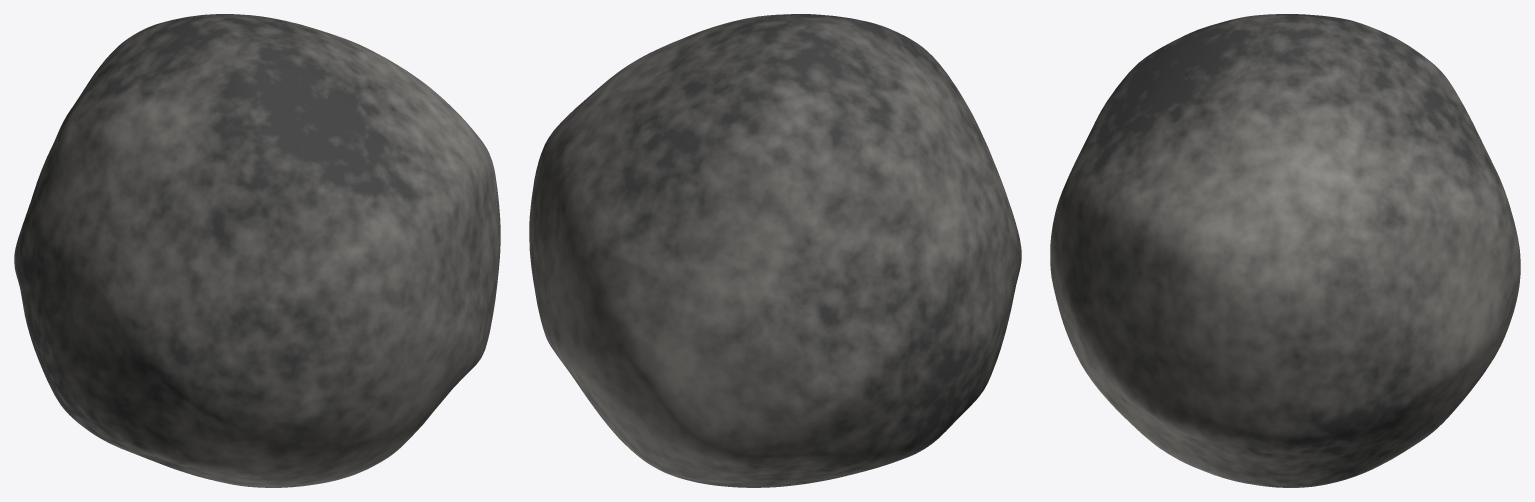
The model's file is granite-boulder-v001.glb.
3 renders of one model, left to right at view 1: azimuth 30°, elevation 25°; view 2: azimuth 150°, elevation 25°; view 3: azimuth 270°, elevation 25°, orthographic. The views are drawn at different scales.
Parts seen in each view (by area): view 1: granite-boulder; view 2: granite-boulder; view 3: granite-boulder.
Boxes of the visible parts, x1,y1,x2,y2 form: granite-boulder: [14, 14, 500, 487]; granite-boulder: [529, 14, 1021, 487]; granite-boulder: [1050, 14, 1520, 487].
Size of the model in its own units: 0.5983 by 0.6001 by 0.5974.
1 material, 1 textured.
